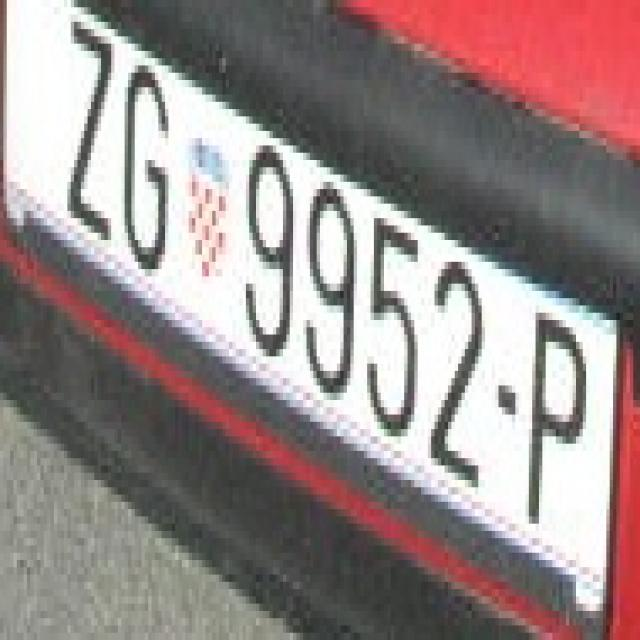2: (421, 240, 482, 495)
5: (367, 204, 414, 444)
9: (232, 109, 293, 349), (300, 167, 354, 400)
G: (115, 44, 165, 284)
P: (515, 291, 586, 538)
Z: (64, 8, 115, 248)
